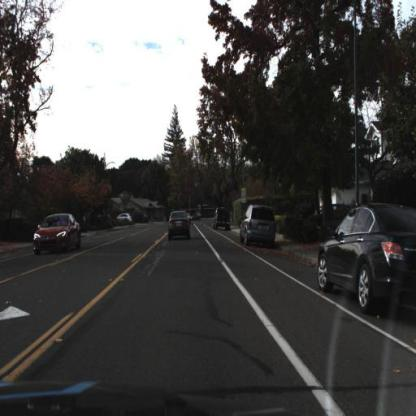car: (317, 202, 416, 321), (33, 213, 84, 257), (243, 202, 283, 250), (167, 211, 192, 244), (218, 209, 233, 235)
